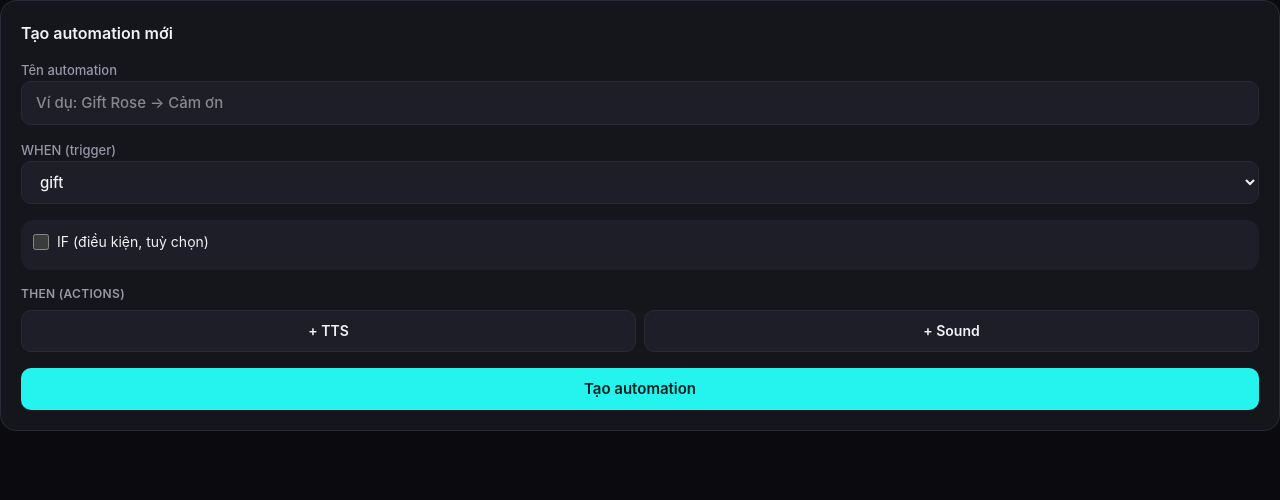
Test: AutomationBuilder — tạo automation không cần viết code (PRD acceptance criteria) › báo lỗi thay vì gọi API khi chưa có action nào
In the field labelled "Tên automation": (640, 103) [21,80,1259,125], type "test"
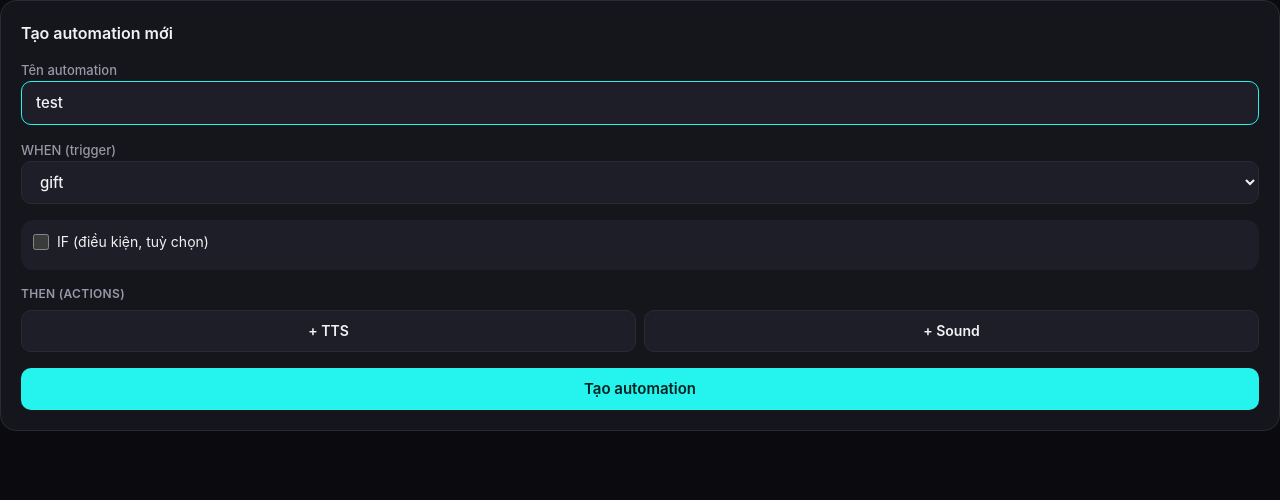
Click the button "Tạo automation": click(640, 389) [21,368,1259,410]
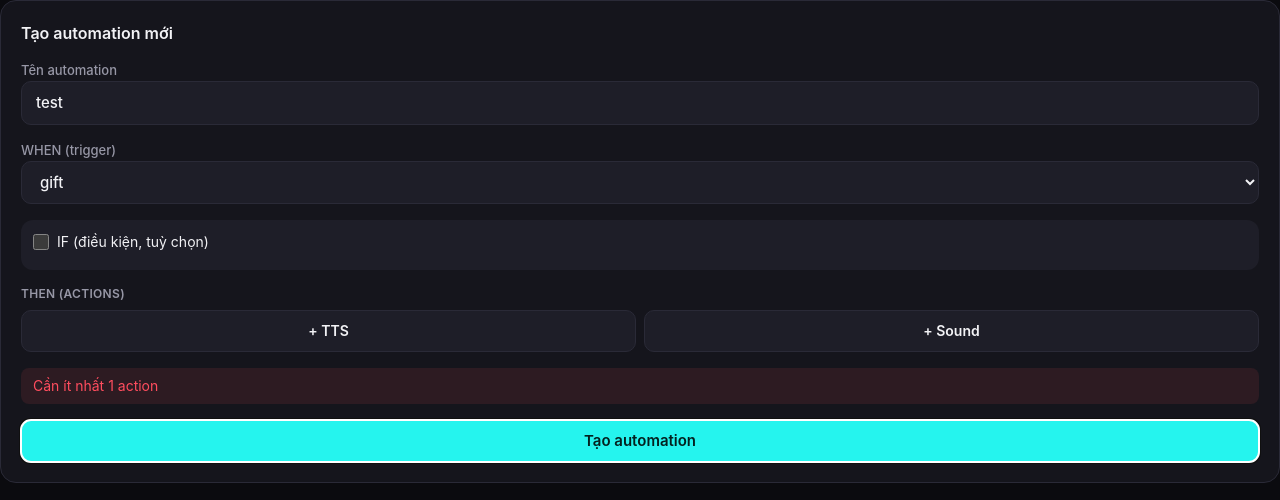
Now the list with test id "builder-errors" is shown, box [21,368,1259,404]
